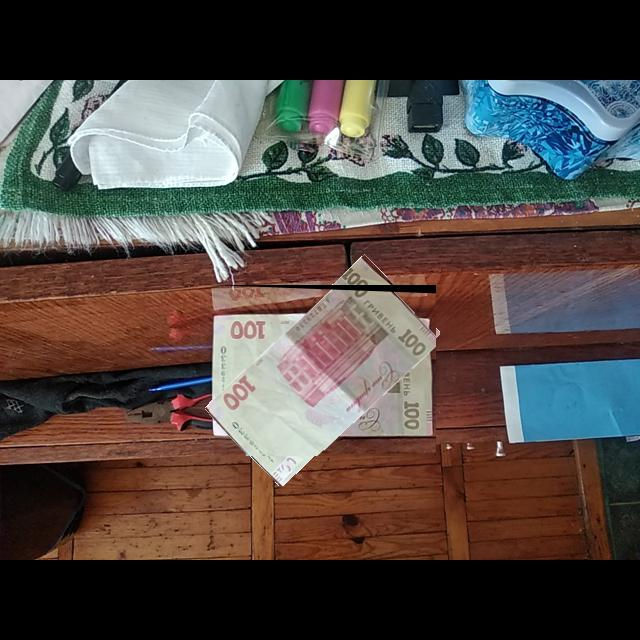100uah: (209, 285, 437, 457)
